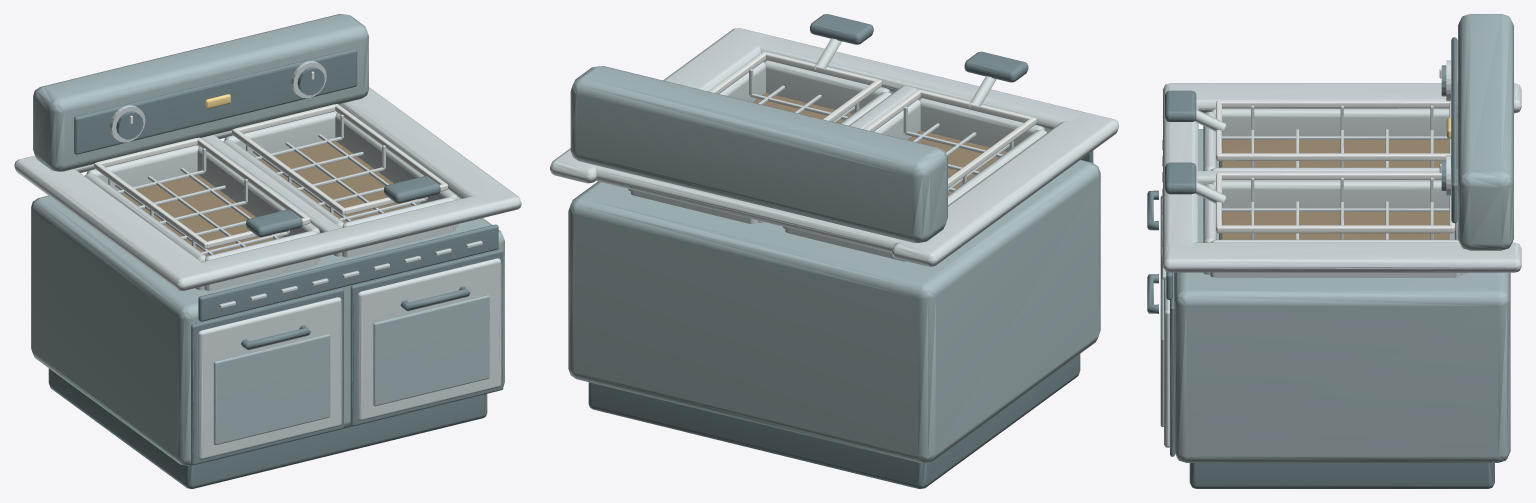
Rendered from Fryer.fbx.
3 views of the same model, side by side, from view 1: azimuth 30°, elevation 25°; view 2: azimuth 150°, elevation 25°; view 3: azimuth 270°, elevation 25° (orthographic). The views are drawn at different scales.
Parts seen in each view (by area): view 1: Fryer.002; view 2: Fryer.002; view 3: Fryer.002.
Boxes of the visible parts, box(x1,y1,x2,y2) form: Fryer.002: box(14, 14, 521, 488); Fryer.002: box(550, 14, 1118, 488); Fryer.002: box(1147, 14, 1521, 488).
Size of the model in its own units: 1.9 by 1.57 by 1.67.
